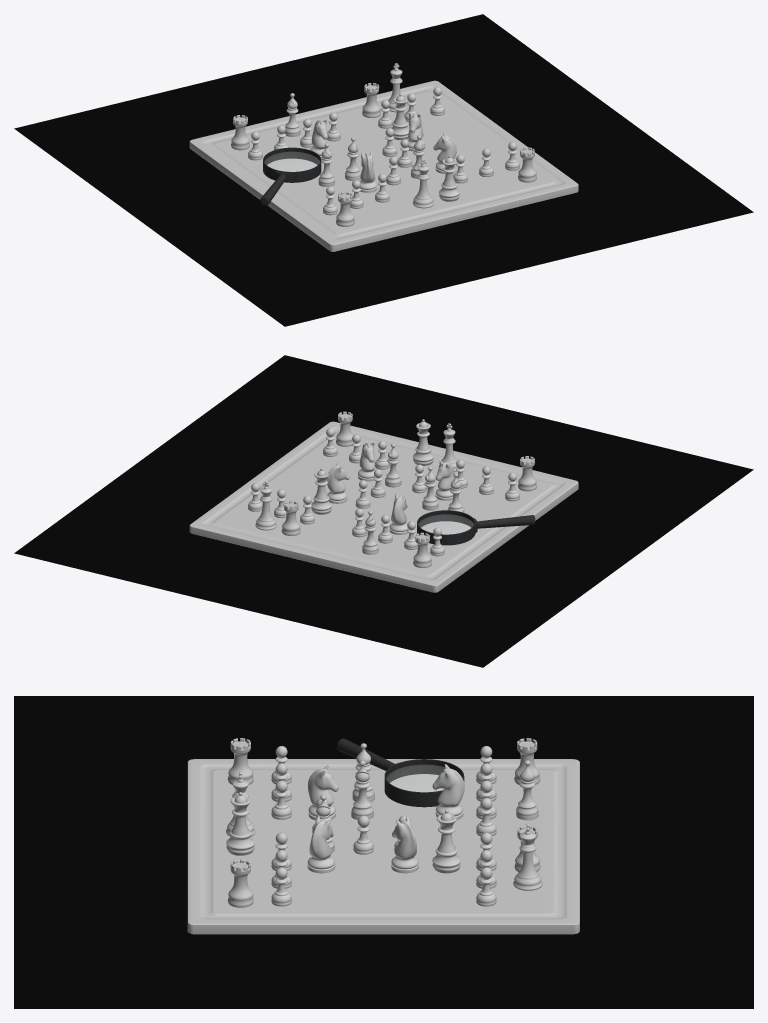
The model's file is Chess.gltf.
3 renders of one model, top to bottom at view 1: azimuth 30°, elevation 25°; view 2: azimuth 150°, elevation 25°; view 3: azimuth 270°, elevation 25°, orthographic. The views are drawn at different scales.
Visible parts, largest first — view 1: Plane, board, magnifying_glass_01, piece_queen_black, piece_king_black, piece_queen_white, piece_knight_black_01, piece_knight_black_02; view 2: Plane, board, magnifying_glass_01, piece_knight_white_01, piece_queen_white, piece_queen_black, piece_knight_black_01, piece_knight_white_02, piece_king_white, piece_knight_black_02; view 3: Plane, board, magnifying_glass_01, piece_knight_white_02, piece_queen_white, piece_knight_white_01, piece_queen_black, piece_knight_black_02, piece_king_white, piece_knight_black_01, piece_rook_black_02, piece_bishop_white_02 (+7 smaller).
Part boxes in pixels (box(x1,y1,x2,y2)): Plane: box(14, 14, 753, 326); board: box(189, 80, 578, 251); magnifying_glass_01: box(260, 147, 321, 205); piece_queen_black: box(439, 155, 459, 201); piece_king_black: box(412, 159, 434, 208); piece_queen_white: box(391, 93, 409, 139); piece_knight_black_01: box(359, 151, 377, 192); piece_knight_black_02: box(433, 132, 456, 173); Plane: box(14, 355, 753, 667); board: box(189, 421, 578, 592); magnifying_glass_01: box(417, 510, 535, 545); piece_knight_white_01: box(326, 462, 349, 503); piece_queen_white: box(311, 468, 331, 514); piece_queen_black: box(413, 419, 433, 465); piece_knight_black_01: box(435, 460, 454, 500); piece_knight_white_02: box(389, 493, 408, 534); piece_king_white: box(255, 481, 276, 530); piece_knight_black_02: box(358, 442, 375, 481); Plane: box(14, 696, 753, 1008); board: box(187, 759, 579, 934); magnifying_glass_01: box(337, 738, 464, 807); piece_knight_white_02: box(432, 764, 464, 819); piece_queen_white: box(432, 809, 460, 873); piece_knight_white_01: box(391, 816, 418, 873); piece_queen_black: box(226, 792, 254, 855); piece_knight_black_02: box(307, 816, 335, 873); piece_king_white: box(513, 823, 542, 890); piece_knight_black_01: box(308, 765, 338, 820); piece_rook_black_02: box(227, 859, 253, 907); piece_bishop_white_02: box(516, 760, 538, 820).
Size of the model in its own units: 11.61 by 1.25 by 11.61.
